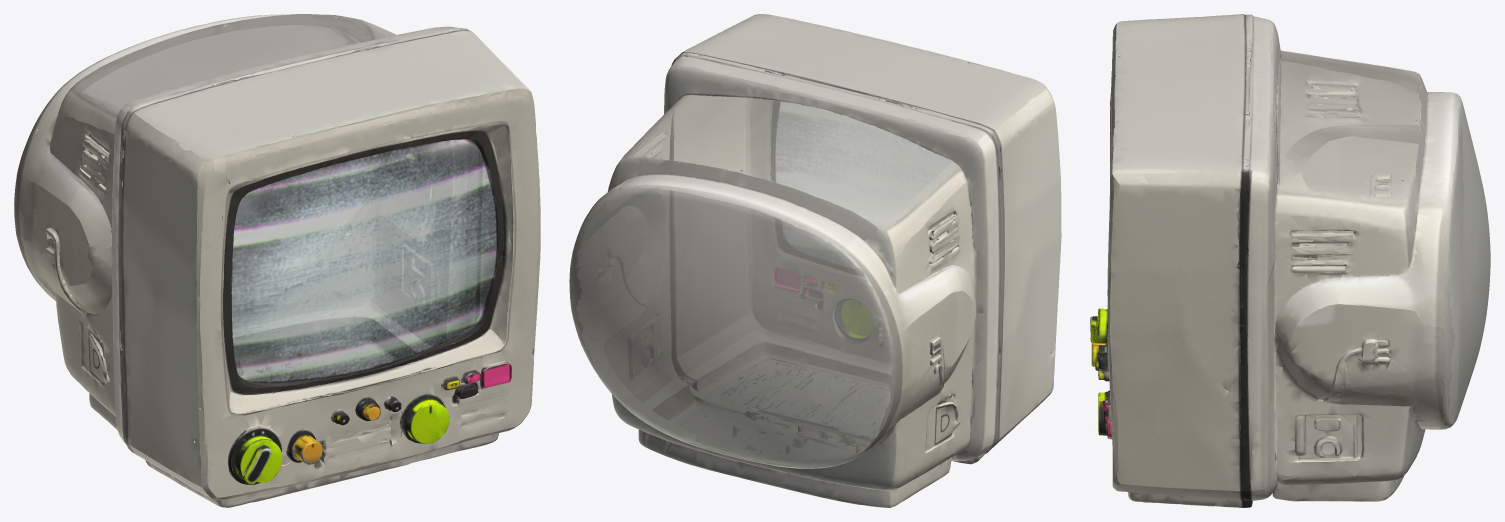
The model's file is u_prp_crt_tv.glb.
3 renders of one model, left to right at view 1: azimuth 30°, elevation 25°; view 2: azimuth 150°, elevation 25°; view 3: azimuth 270°, elevation 25°, orthographic. The views are drawn at different scales.
Parts seen in each view (by area): view 1: geometry_0; view 2: geometry_0; view 3: geometry_0.
Boxes of the visible parts, left/top/right/bottom form: geometry_0: left=14, top=14, right=540, bottom=507; geometry_0: left=569, top=14, right=1061, bottom=507; geometry_0: left=1090, top=14, right=1490, bottom=507.
Bounding box in the file's own units: 0.45 × 0.4353 × 0.4456.
Materials: 1 (1 with a texture image).
